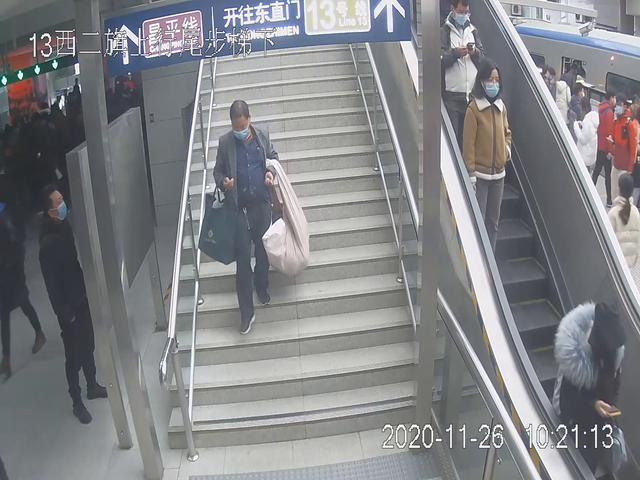person: (209, 96, 309, 342), (36, 180, 114, 431), (460, 53, 515, 278), (434, 1, 492, 169)
